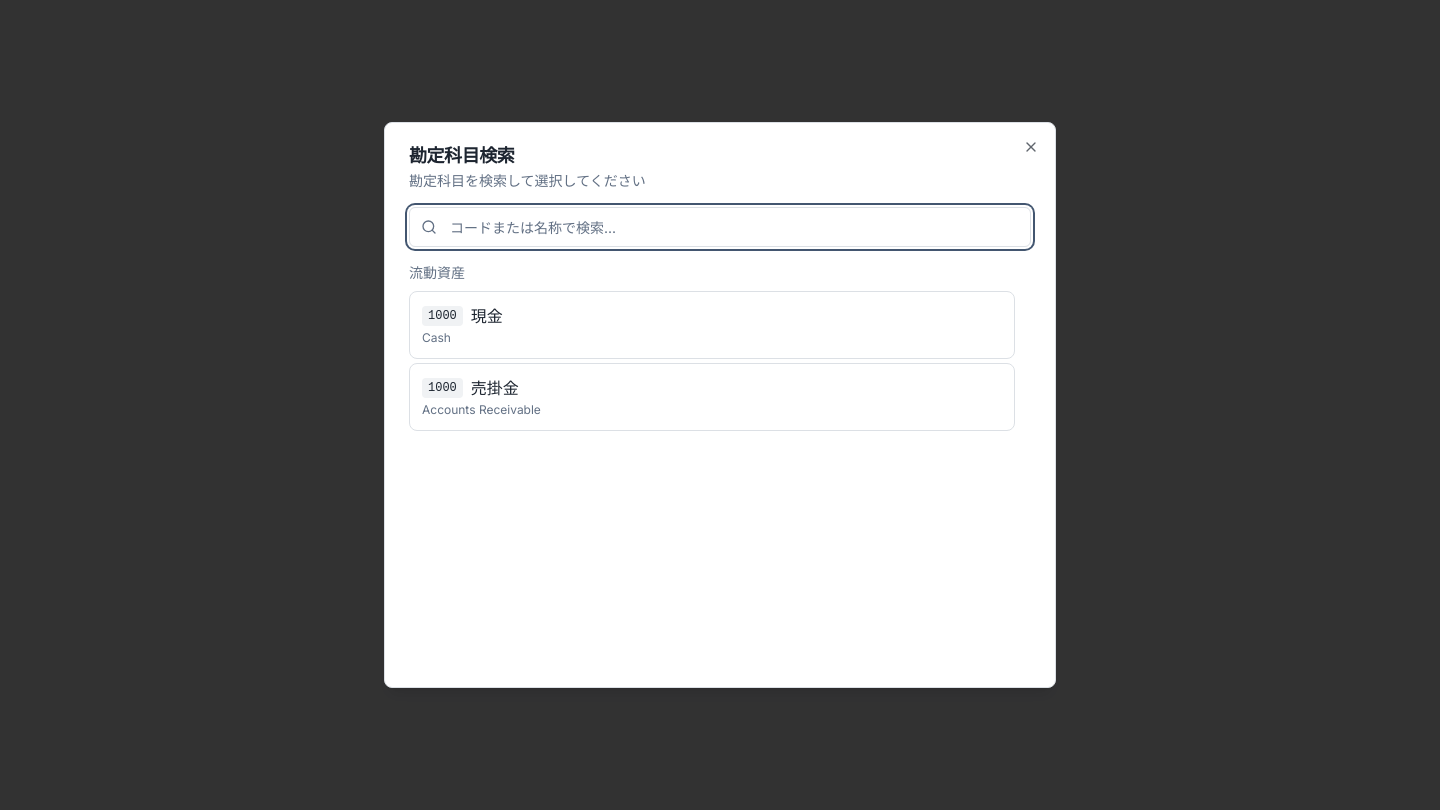
Test: conversion/account-search-dialog — search filtering › filters by Japanese name
Type "売掛金" into the field with placeholder "コードまたは名称で検索...". click: (720, 227)
box: [409,207,1031,247]
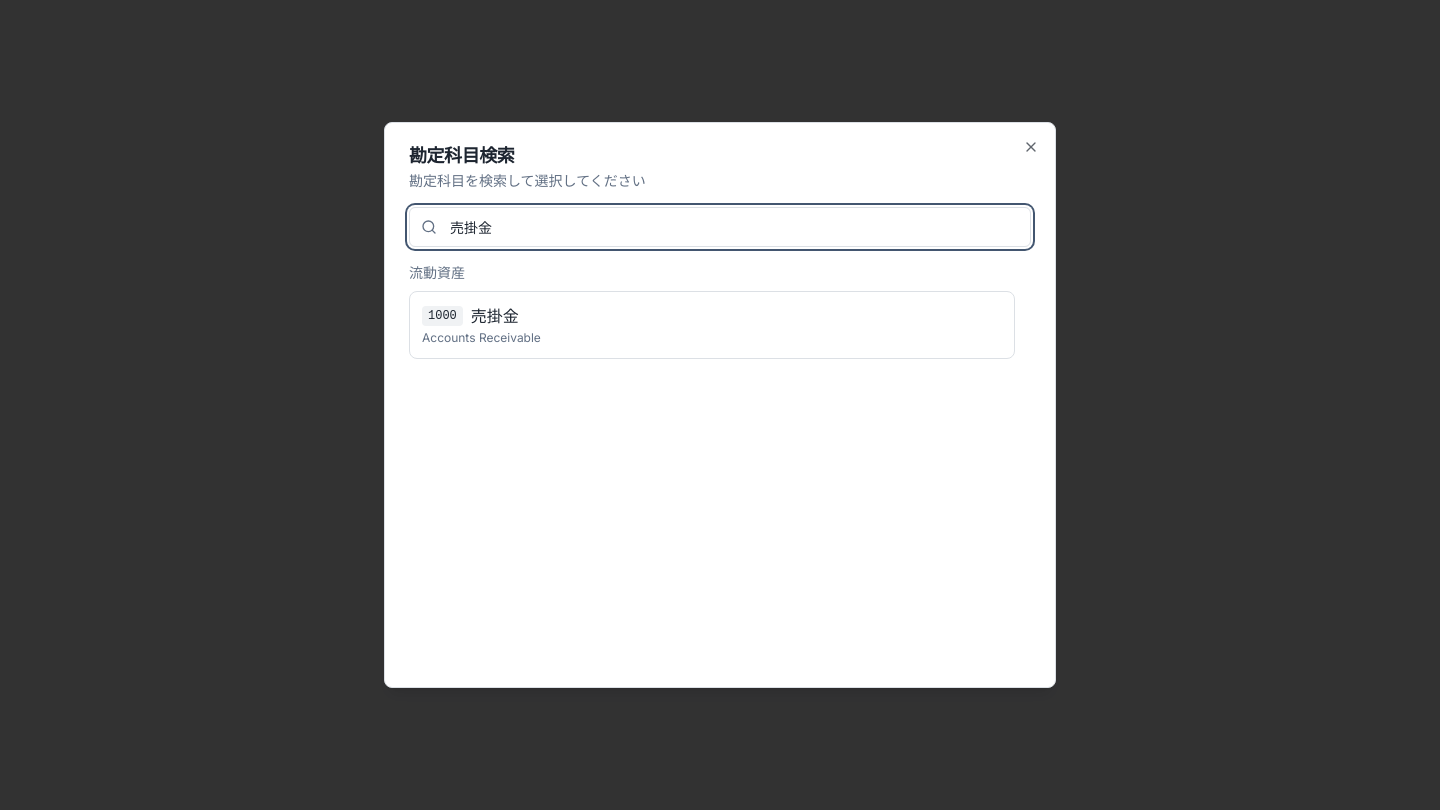
Expected: the text "売掛金" is shown, [471,304,519,328]
Now the button "現金" is gone
